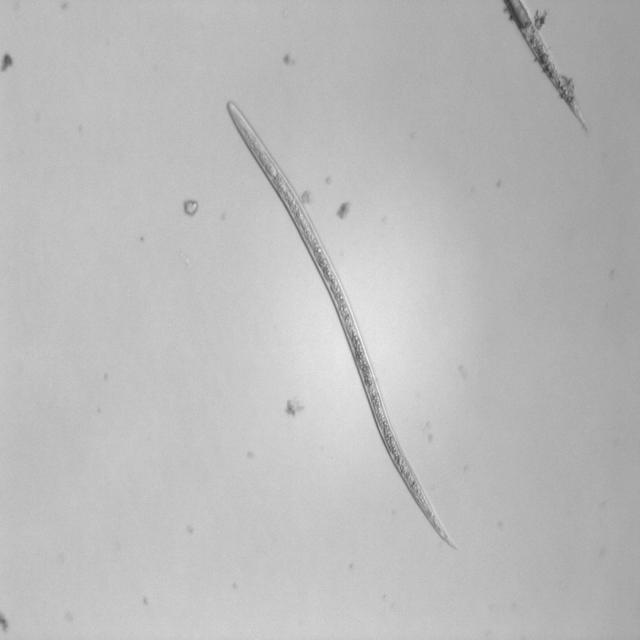Meloidogyne: (213, 89, 467, 560)
